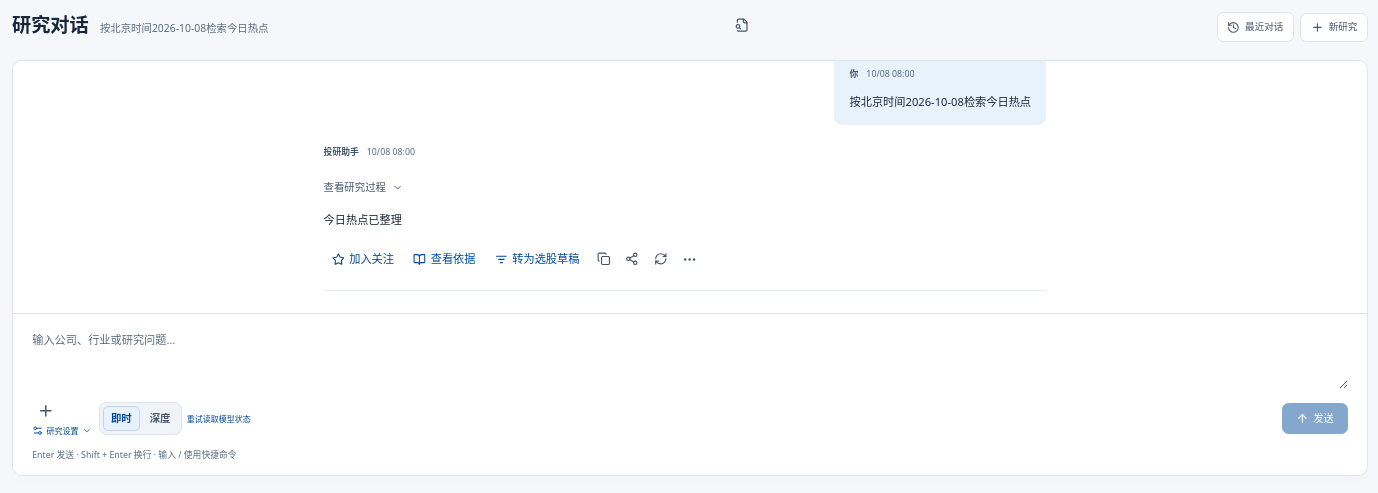
Test: unrestricted research follow-ups › leaves an assistant first-turn date intact and clears every inherited limit only for a new follow-up
The width and height of the screenshot is (1378, 493).
(page scrolled)
Expected: the text "今日热点已整理" is shown, [324,212,402,227]
Type "比较美股与港股的最新产业动态" into the text box named "研究要求" at (690, 358), box [32,327,1348,389]
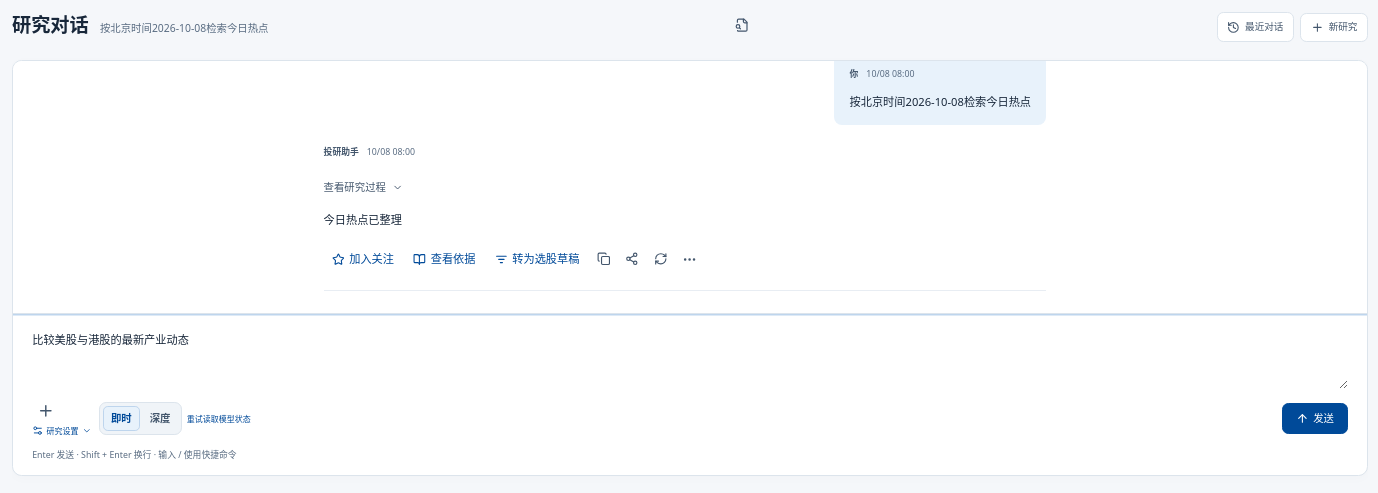
Click the button "发送" at (1315, 418), box [1282,403,1348,434]
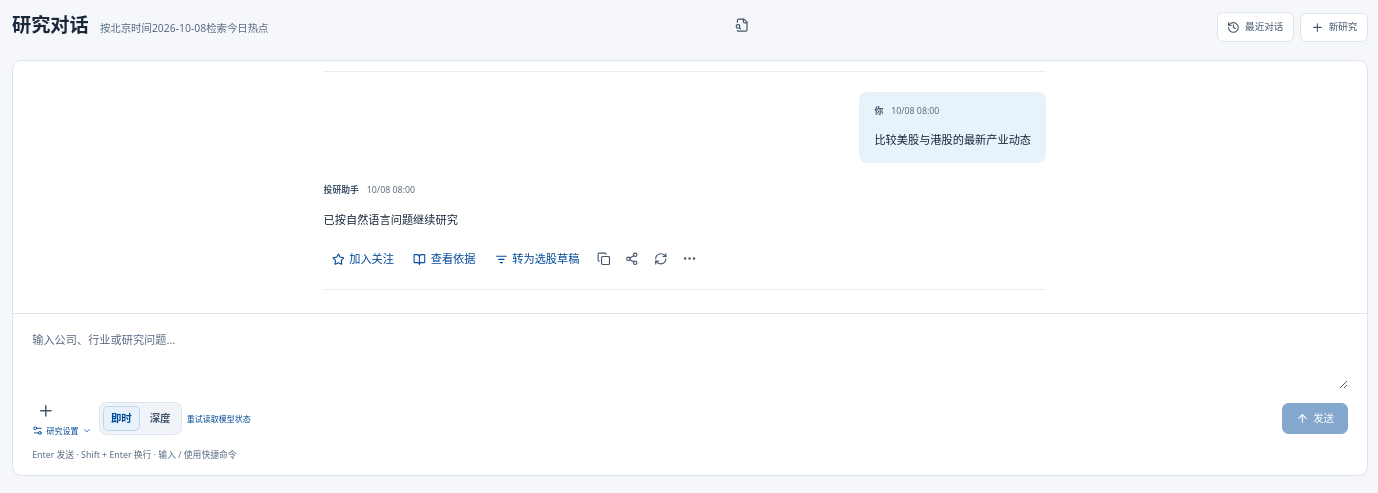
Expected: the text "已按自然语言问题继续研究" is shown, [324,212,458,227]
